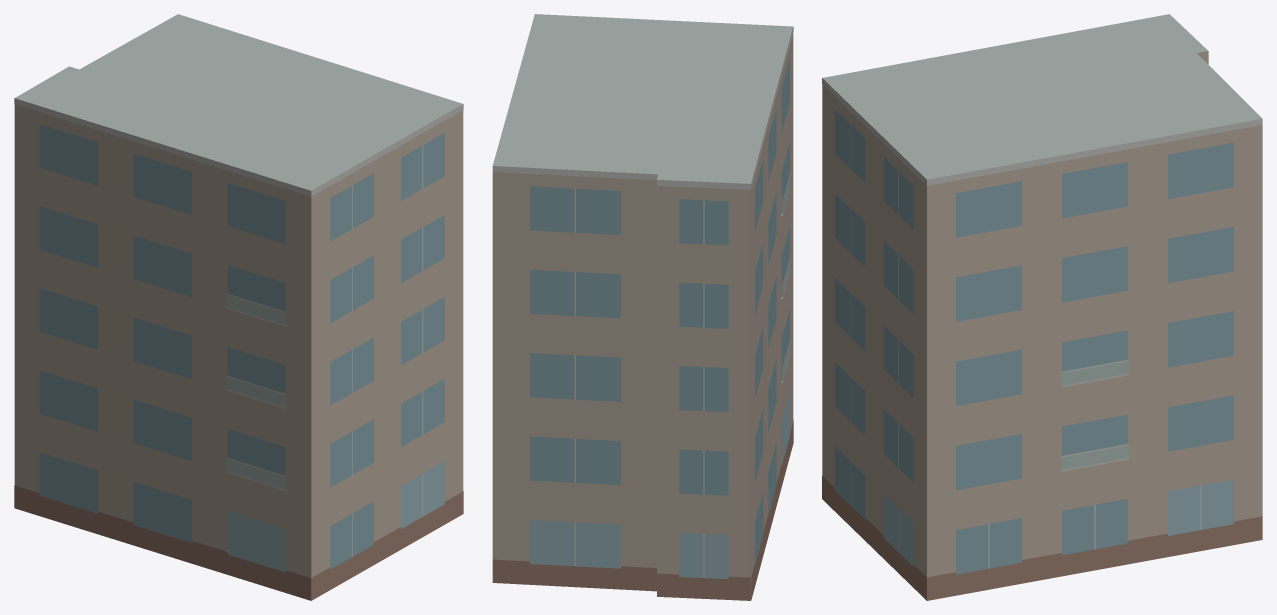
Rendered from survey-upis-32546537.glb.
3 renders of one model, left to right at view 1: azimuth 30°, elevation 25°; view 2: azimuth 150°, elevation 25°; view 3: azimuth 270°, elevation 25°, orthographic. The views are drawn at different scales.
Parts seen in each view (by area): view 1: survey-upis-32546537.tmp; view 2: survey-upis-32546537.tmp; view 3: survey-upis-32546537.tmp.
Boxes of the visible parts, left/top/right/bottom form: survey-upis-32546537.tmp: left=14, top=14, right=463, bottom=600; survey-upis-32546537.tmp: left=492, top=14, right=793, bottom=600; survey-upis-32546537.tmp: left=822, top=14, right=1262, bottom=600.
Size of the model in its own units: 14.28 by 16.9 by 16.03.
